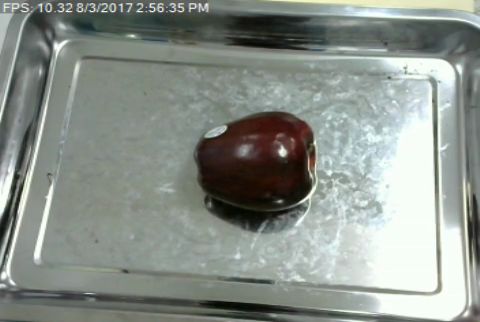Apple: (193, 107, 321, 219)
